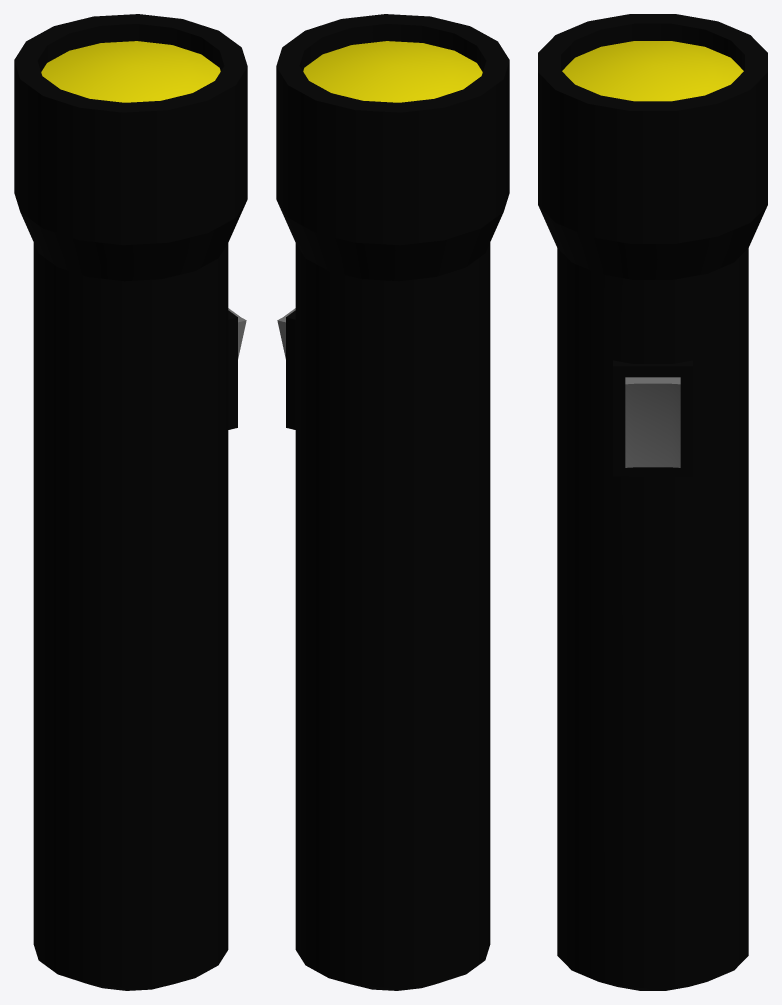
The model's file is flashlight.glb.
The picture shows the model from 3 angles, left to right: view 1: azimuth 30°, elevation 25°; view 2: azimuth 150°, elevation 25°; view 3: azimuth 270°, elevation 25°; orthographic projection.
Parts seen in each view (by area): view 1: Flashlight; view 2: Flashlight; view 3: Flashlight.
Part boxes in pixels (x1,y1,x2,y2): Flashlight: (14, 14, 247, 990); Flashlight: (276, 14, 509, 990); Flashlight: (538, 14, 767, 990).
Bounding box in the file's own units: 0.0476 × 0.2038 × 0.0471.
